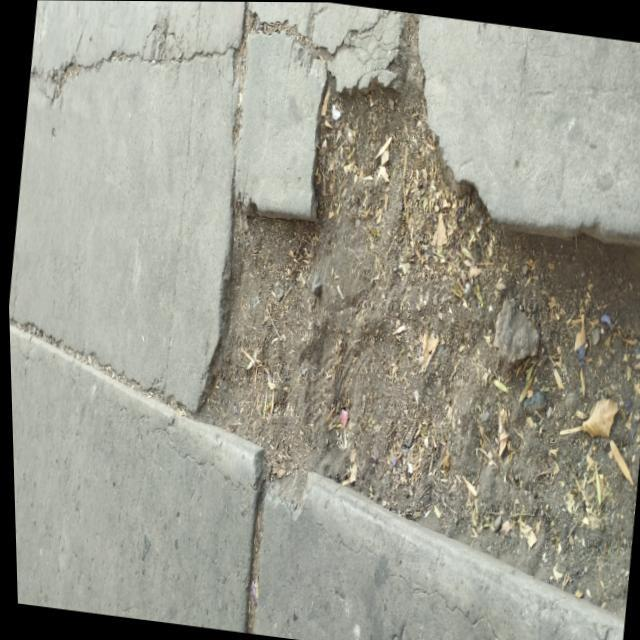hole: (161, 1, 640, 619)
